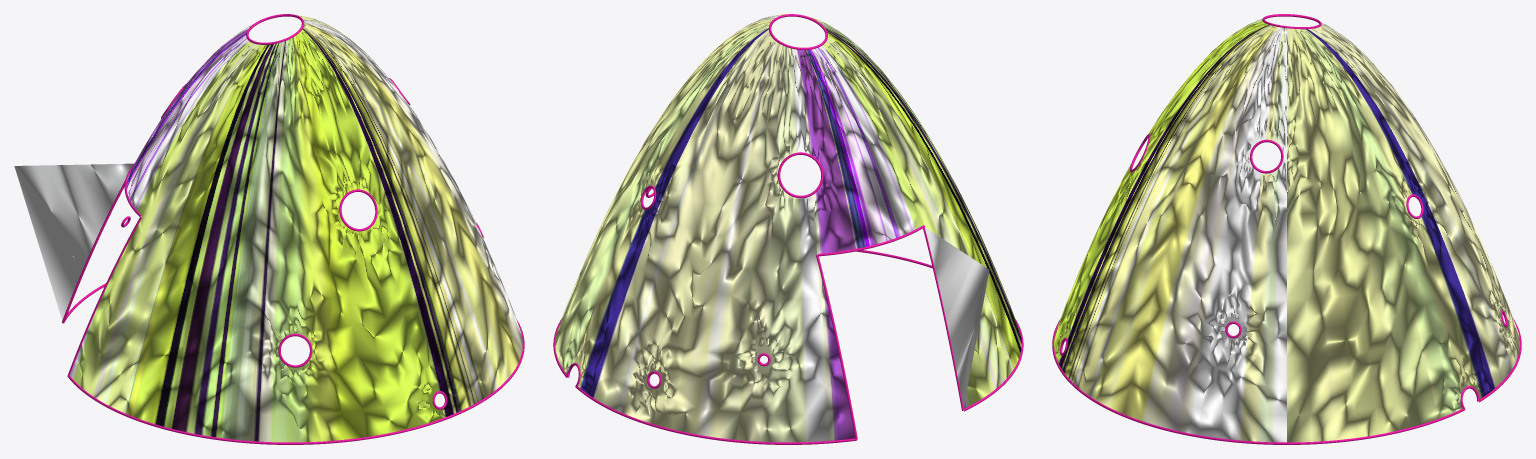
3 renders of one model, left to right at view 1: azimuth 30°, elevation 25°; view 2: azimuth 150°, elevation 25°; view 3: azimuth 270°, elevation 25°, orthographic.
Parts seen in each view (by area): view 1: Solids, Solids_2, Canopy, Openings, Canopy_2; view 2: Solids, Solids_2, Canopy, Openings, Canopy_2; view 3: Solids, Solids_2, Openings.
Boxes of the visible parts, x1=… form: Solids: x1=69, y1=15, x2=522, y2=442; Solids_2: x1=70, y1=16, x2=522, y2=442; Canopy: x1=14, y1=163, x2=133, y2=320; Openings: x1=62, y1=14, x2=524, y2=444; Canopy_2: x1=16, y1=164, x2=129, y2=316; Solids: x1=555, y1=14, x2=1021, y2=442; Solids_2: x1=557, y1=17, x2=1021, y2=442; Canopy: x1=924, y1=227, x2=989, y2=407; Openings: x1=553, y1=14, x2=1023, y2=444; Canopy_2: x1=926, y1=229, x2=988, y2=405; Solids: x1=1054, y1=19, x2=1519, y2=442; Solids_2: x1=1054, y1=23, x2=1519, y2=442; Openings: x1=1052, y1=14, x2=1521, y2=444.
Bounding box in the file's own units: 12.09 × 8.57 × 11.2.
3 materials, 3 textured.
